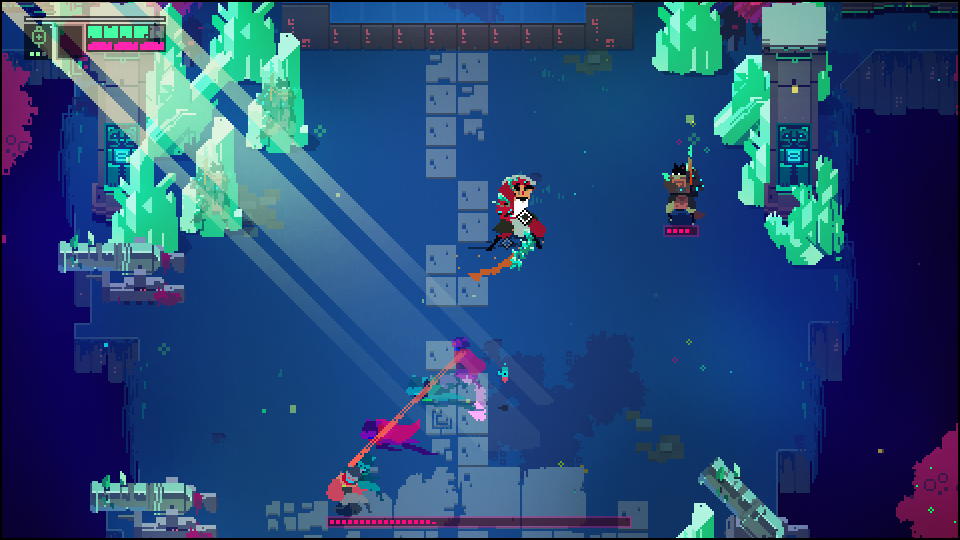hanged_man: (478, 173, 550, 272), (327, 464, 371, 511)
